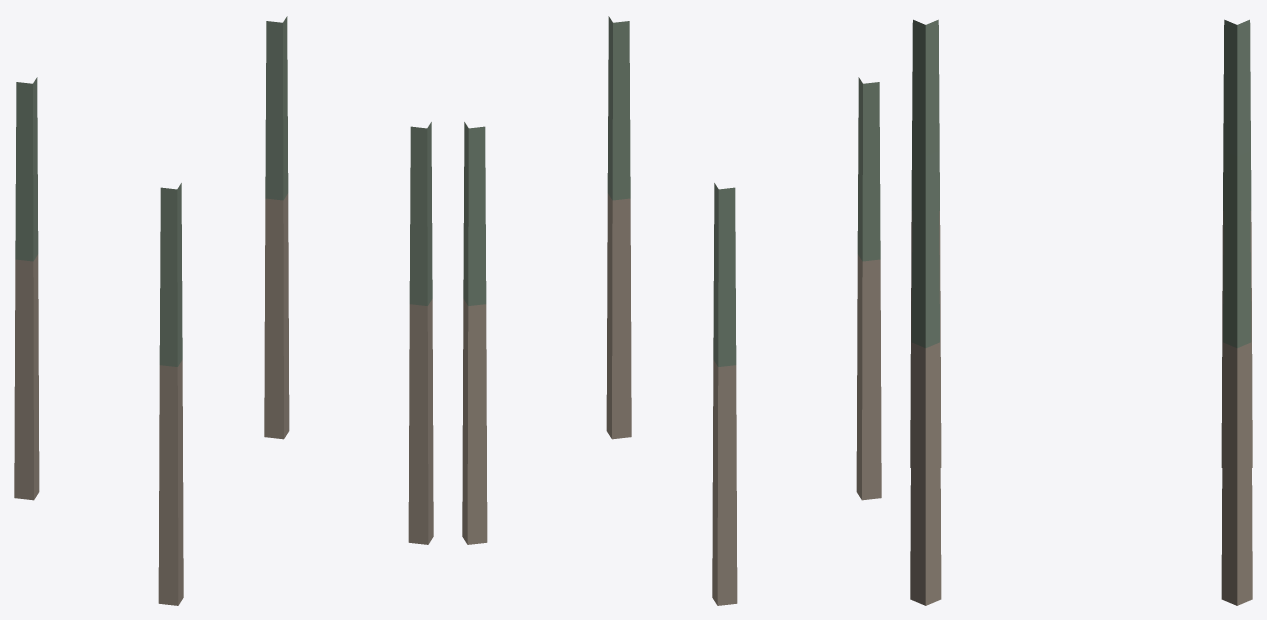
Rendered from piles.lod2.glb.
The picture shows the model from 3 angles, left to right: view 1: azimuth 30°, elevation 25°; view 2: azimuth 150°, elevation 25°; view 3: azimuth 270°, elevation 25°; orthographic projection. The views are drawn at different scales.
Bounding box in the file's own units: 3.96 × 5.72 × 3.96.
